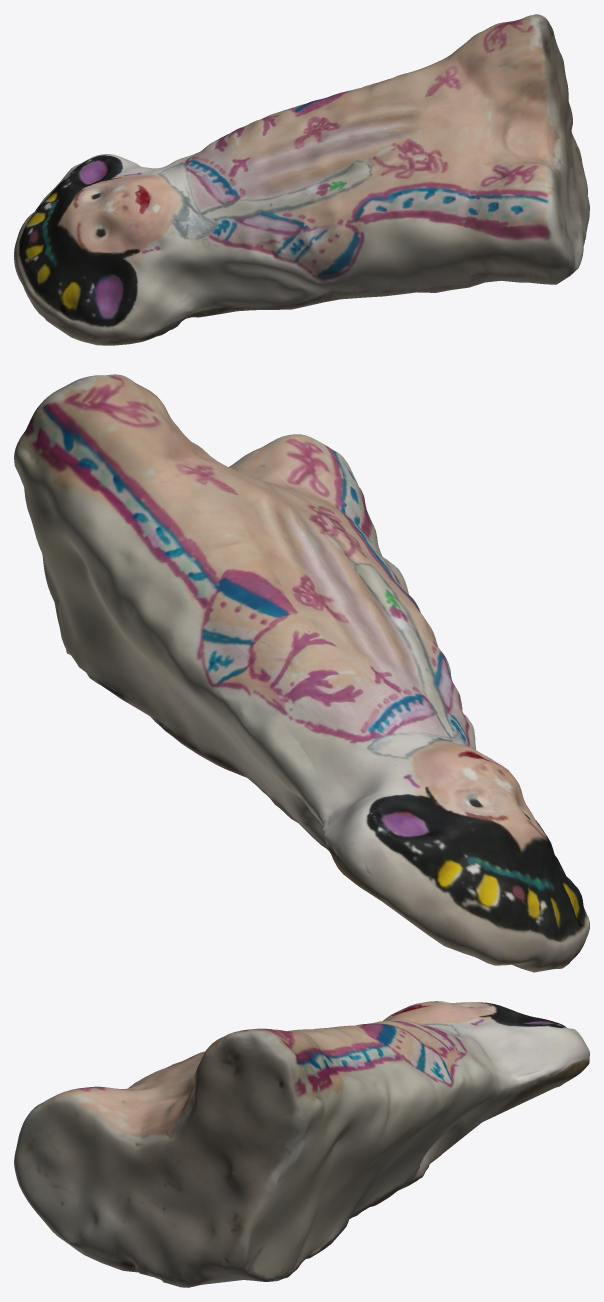
3 views of the same model, one above another, from view 1: azimuth 30°, elevation 25°; view 2: azimuth 150°, elevation 25°; view 3: azimuth 270°, elevation 25° (orthographic). The views are drawn at different scales.
Size of the model in its own units: 0.602 by 0.3424 by 0.5293.
Materials: 1 (1 with a texture image).
